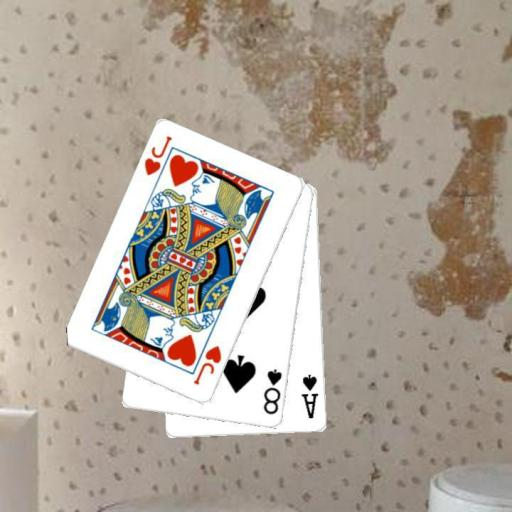card-corner: (141, 133, 173, 178), (191, 343, 223, 387), (260, 366, 284, 416), (298, 372, 320, 421)
